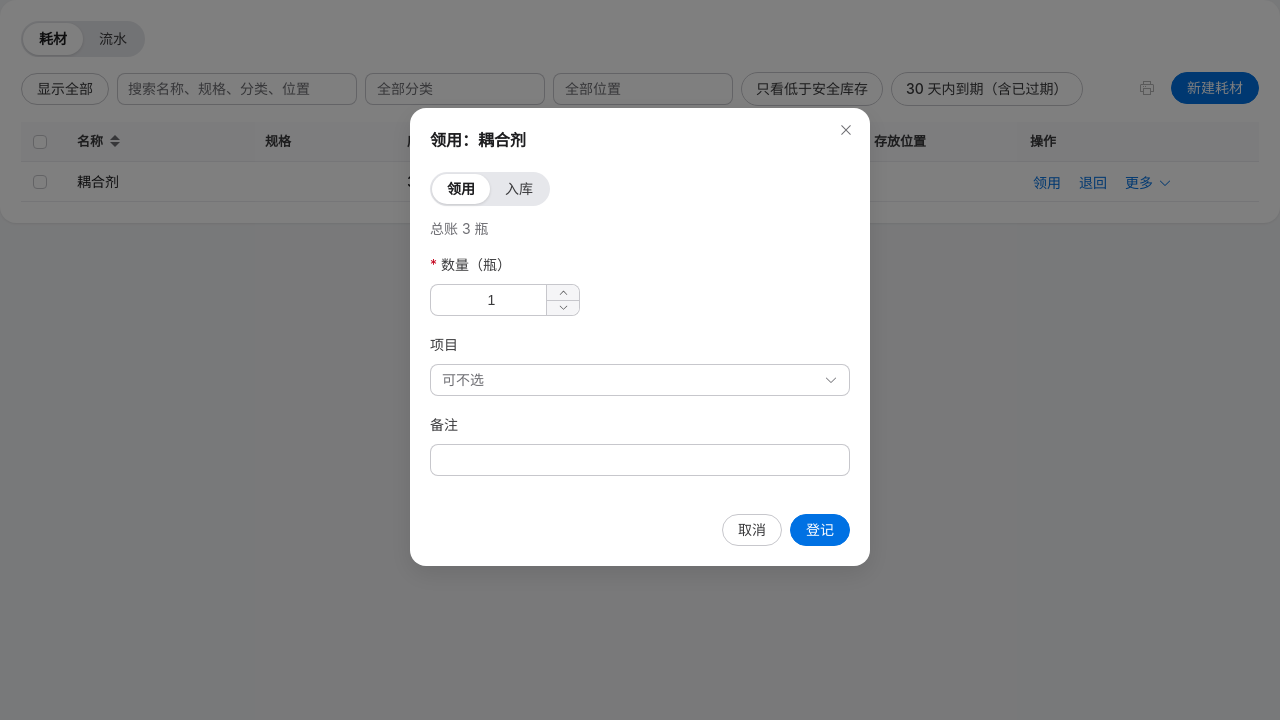
Scenario: opens 领用 of a scanned label once the item is on the page, and a manager can switch it to 入库
Check: the element showing "领用：耦合剂 领用 入库 总账 3 瓶 数量（瓶） 项目 可不选 备注 取消 登记" is shown, box [410,108,870,566]
Click the radio button labelled "入库". click: x=519, y=188
box: [505,180,533,197]
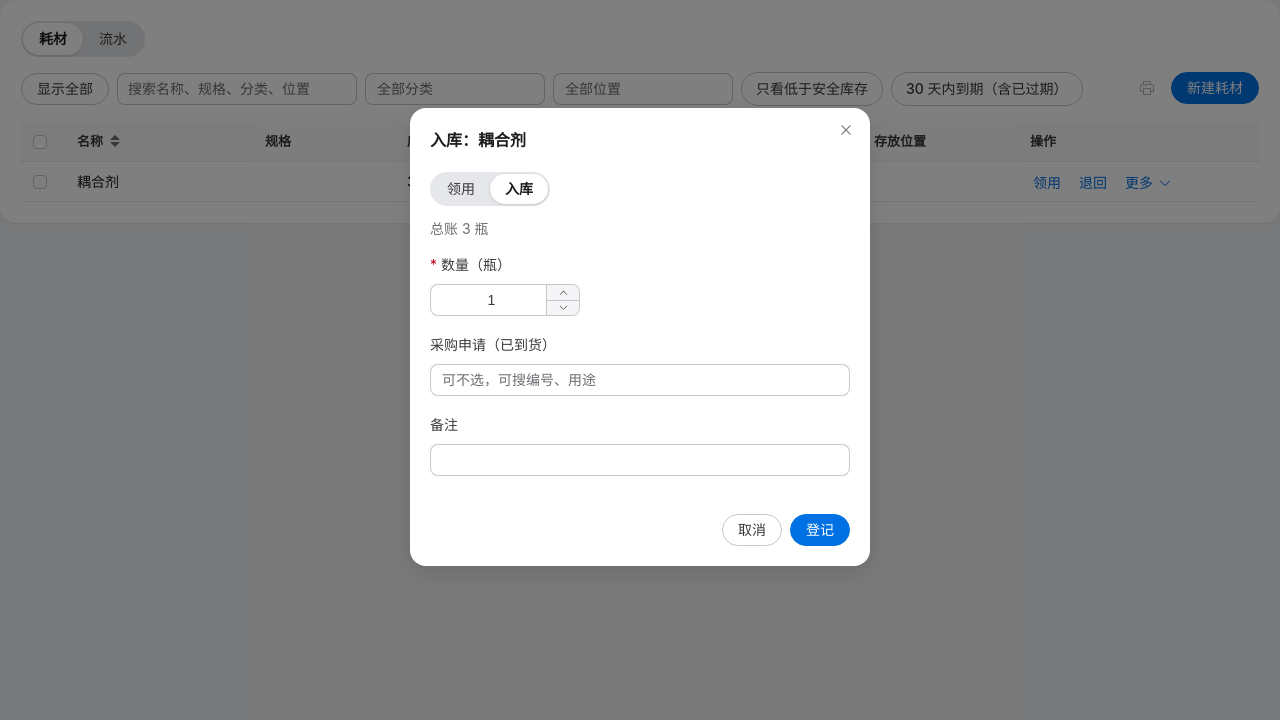
Check: the element showing "入库：耦合剂 领用 入库 总账 3 瓶 数量（瓶） 采购申请（已到货） 可不选，可搜编号、用途 备注 取消 登记" is shown, box [410,108,870,566]
